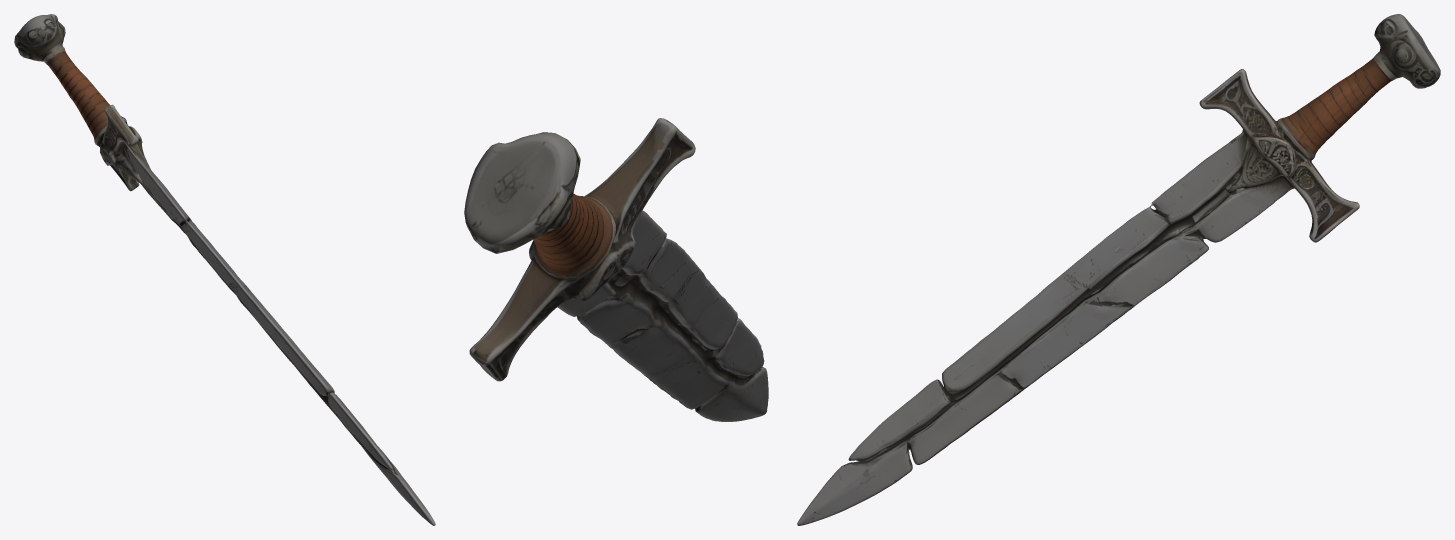
The model's file is OldSword1 1.fbx.
3 views of the same model, side by side, from view 1: azimuth 30°, elevation 25°; view 2: azimuth 150°, elevation 25°; view 3: azimuth 270°, elevation 25° (orthographic). The views are drawn at different scales.
Parts seen in each view (by area): view 1: tripo_node_3c5b36d2; view 2: tripo_node_3c5b36d2; view 3: tripo_node_3c5b36d2.
Boxes of the visible parts, x1,y1,x2,y2 form: tripo_node_3c5b36d2: [14, 14, 435, 525]; tripo_node_3c5b36d2: [464, 118, 768, 421]; tripo_node_3c5b36d2: [797, 14, 1440, 525].
Size of the model in its own units: 34.41 by 73 by 99.74.
1 material, 1 textured.
